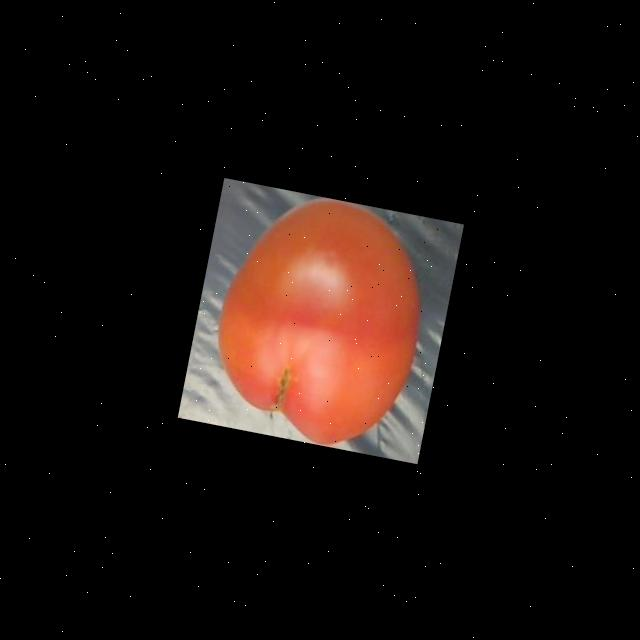tomato: (198, 184, 442, 459)
